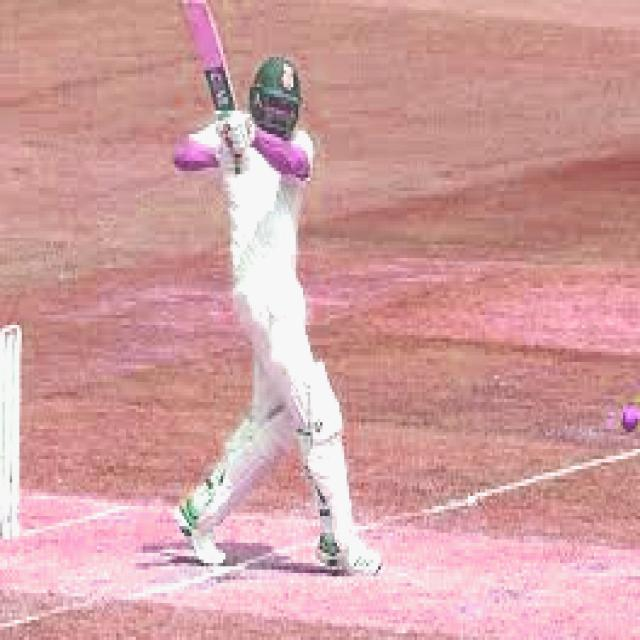toe: (178, 0, 213, 27)
